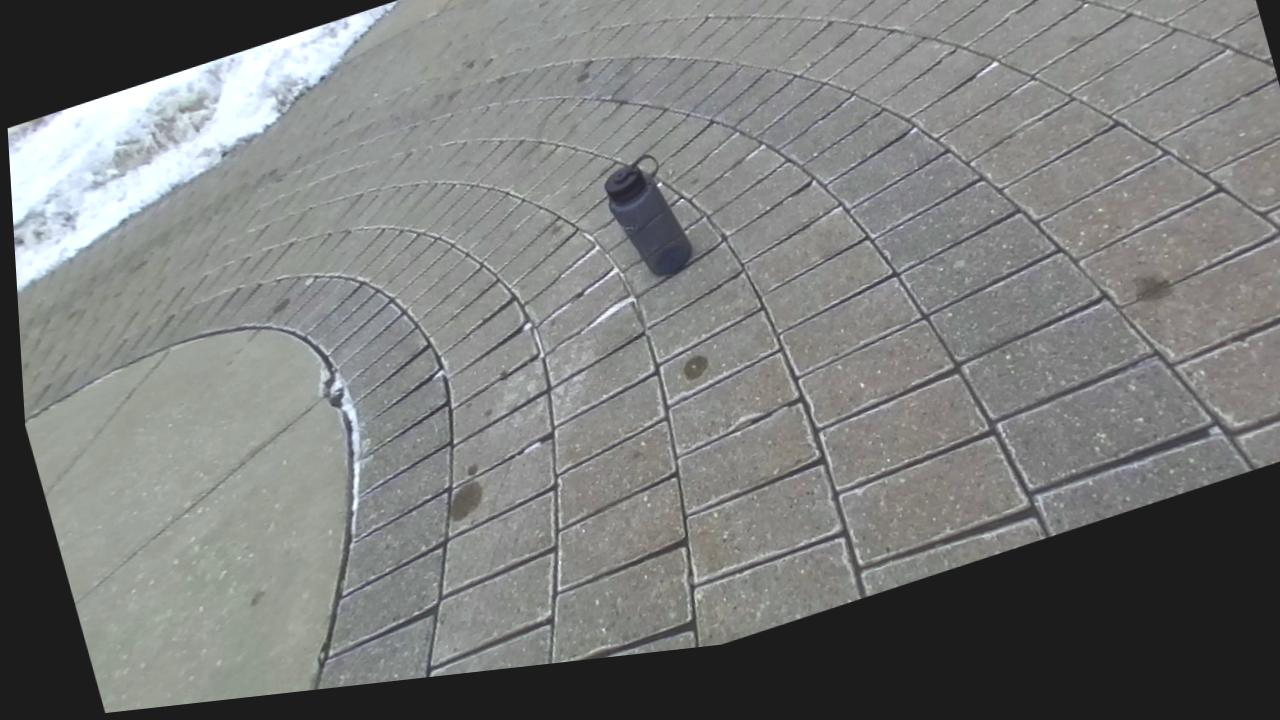bottle: (604, 155, 691, 275)
